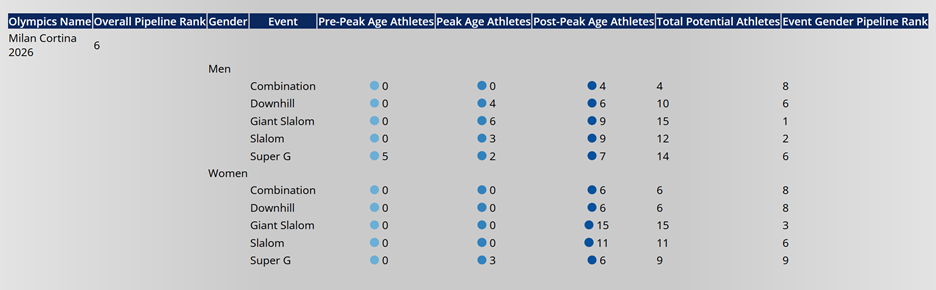

What the dashboard file says about the page in this screenshot:
{"tool":"tableau","page":{"name":"Dashboard 1","canvas":[1000,1000],"units":"permille","ordinal":0},"visuals":[{"type":"worksheet","title":"Sheet 1","mark":"Automatic","box":[2.1,4.2,888.5,991.5]},{"type":"filter","title":"Sheet 1","param":"[federated.146amrn0jlxjl911misc91clc58j].[none:Medal:ok]","box":[890.6,4.2,107.3,47.2]},{"type":"filter","title":"Sheet 1","param":"[federated.146amrn0jlxjl911misc91clc58j].[none:USOC Master Competition Set Name:","box":[890.6,51.4,107.3,150.1]},{"type":"legend","title":"Sheet 1","param":"[federated.146amrn0jlxjl911misc91clc58j].[cnt:Medal:qk]","box":[890.6,201.5,107.3,43]},{"type":"filter","title":"Sheet 1","param":"[federated.146amrn0jlxjl911misc91clc58j].[none:Event Gender:nk]","box":[890.6,244.4,107.3,64.2]},{"type":"filter","title":"Sheet 1","param":"[federated.146amrn0jlxjl911misc91clc58j].[none:Event Name Short:nk]","box":[890.6,308.6,107.3,121.4]}]}

Visuals, with their boxes on the dashboard's canvas, which has no fixed pixel size, in thousandths of its width and height (x1, y1, x2, y2). These are canvas units, not pixel positions in the 936x290 screenshot, which may show the page scaled, cropped or inside an application window:
"Sheet 1" worksheet: 2/4/891/996
"Sheet 1" filter: 891/4/998/51
"Sheet 1" filter: 891/51/998/202
"Sheet 1" legend: 891/202/998/244
"Sheet 1" filter: 891/244/998/309
"Sheet 1" filter: 891/309/998/430
